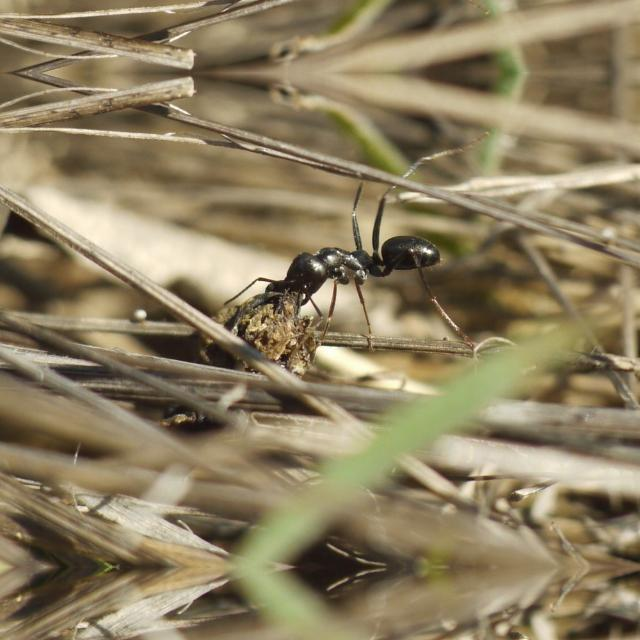Cataglyphis: (243, 204, 462, 330)
